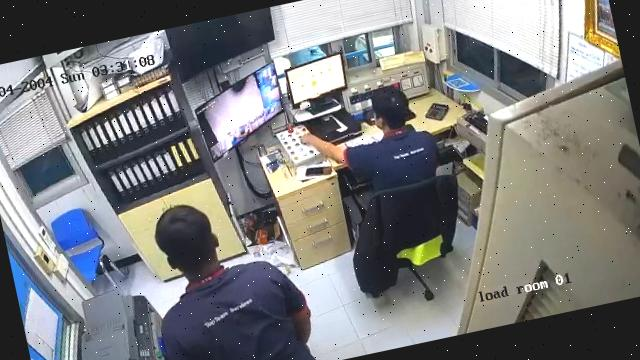Head: (155, 206, 219, 281), (372, 87, 408, 132)
People: (155, 210, 311, 359), (301, 87, 439, 191)
Phone: (306, 167, 331, 176)
